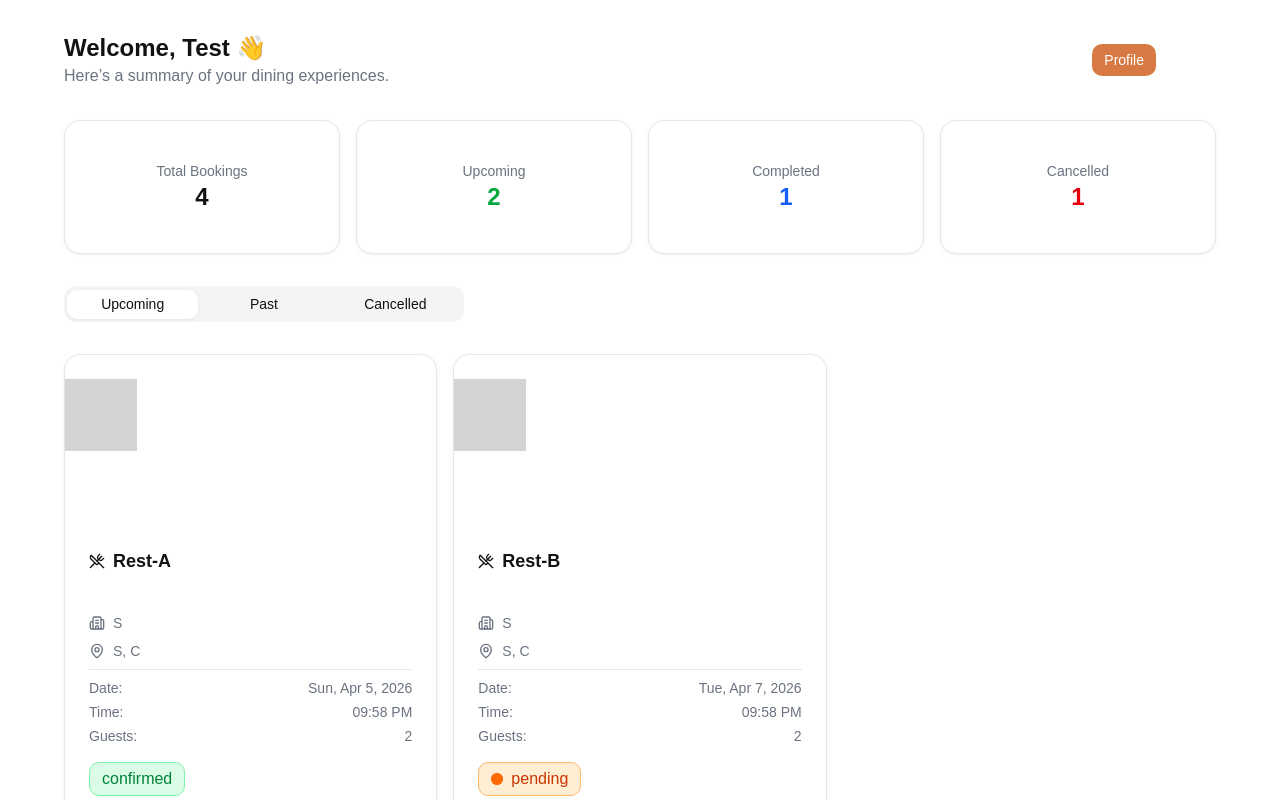
Test: UserDashboardPage (customer dashboard) › tab switching: upcoming/past/cancelled lists update properly
This screenshot has width=1280, height=800.
Expected: the text "Rest-A" is shown, [89,551,171,571]
Expected: the text "Rest-B" is shown, [478,551,560,571]
Switch to Past
Click the tab "Past" at (264, 304), box [198,290,330,318]
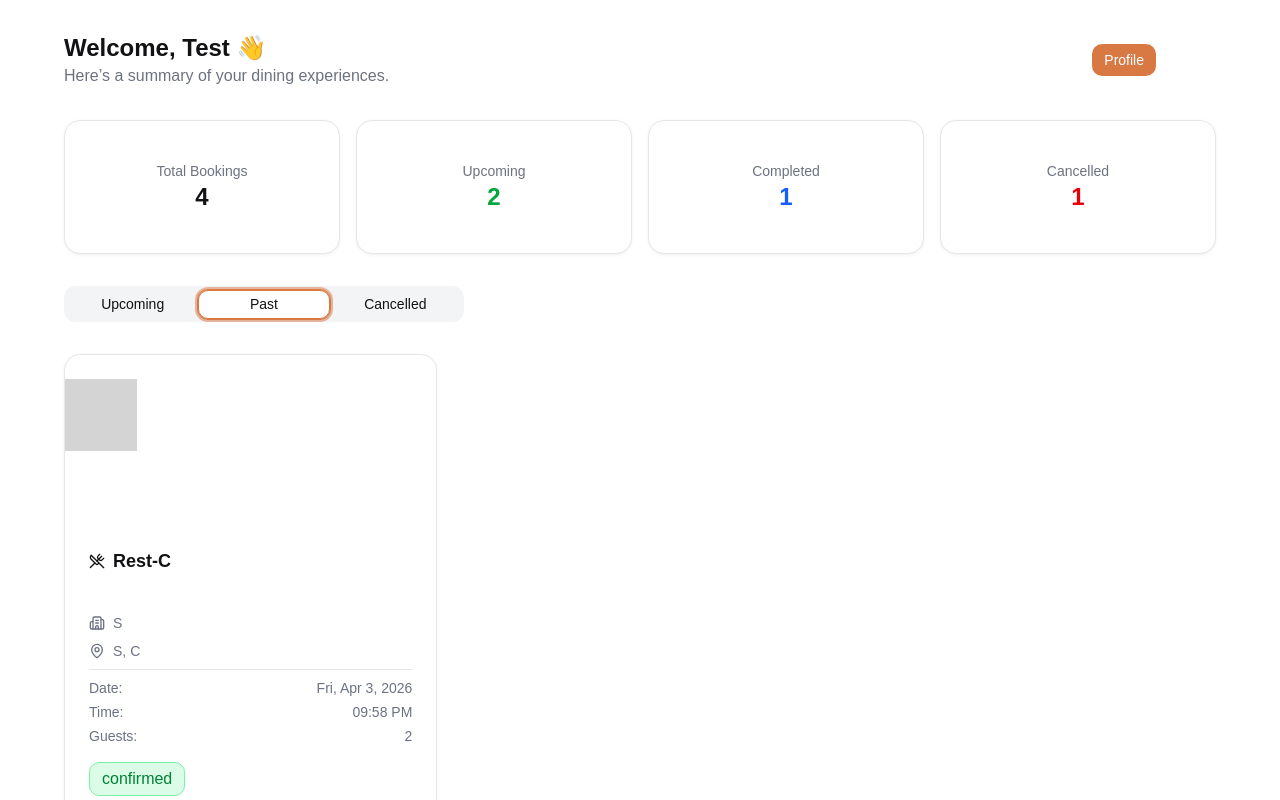
Result: the text "Rest-C" is shown at [89,551,171,571]
Switch to Cancelled
Click the tab "Cancelled" at (395, 304), box [330,290,461,318]
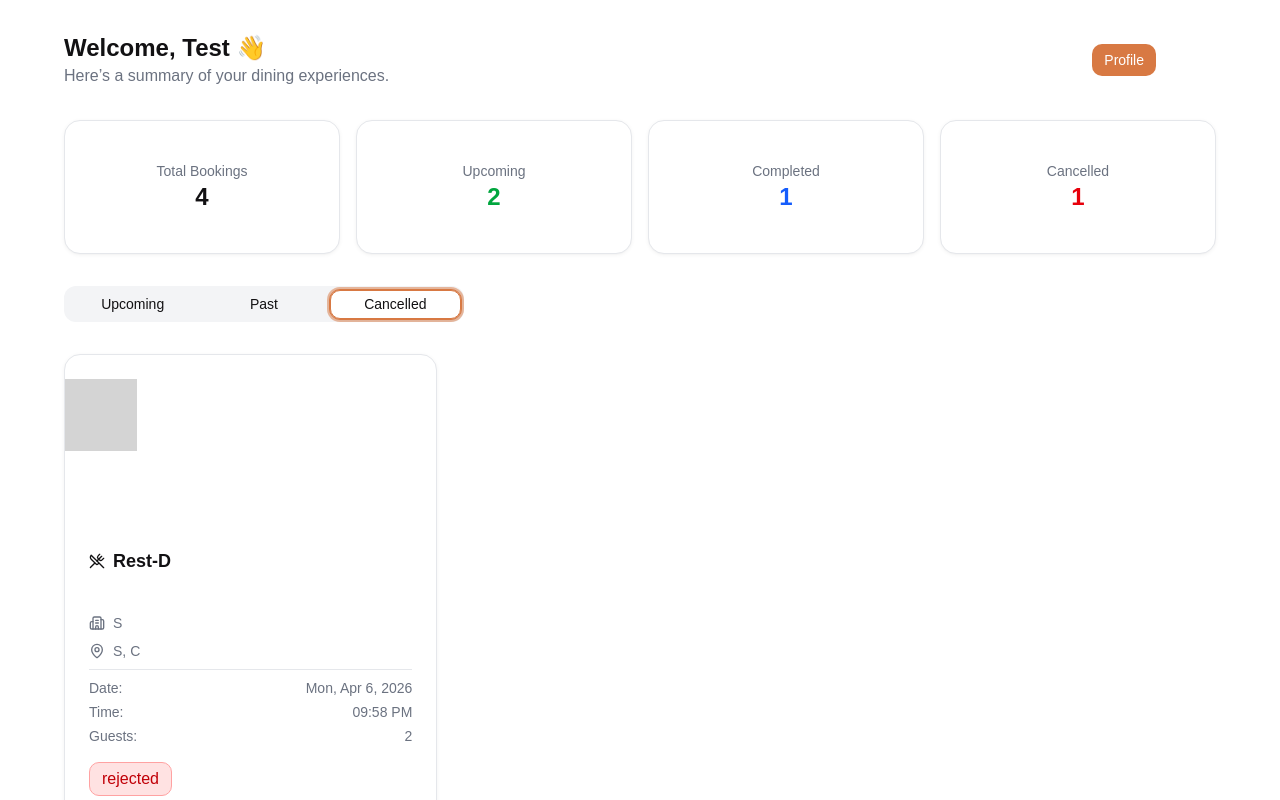
Result: the text "Rest-D" is shown at [89,551,171,571]
